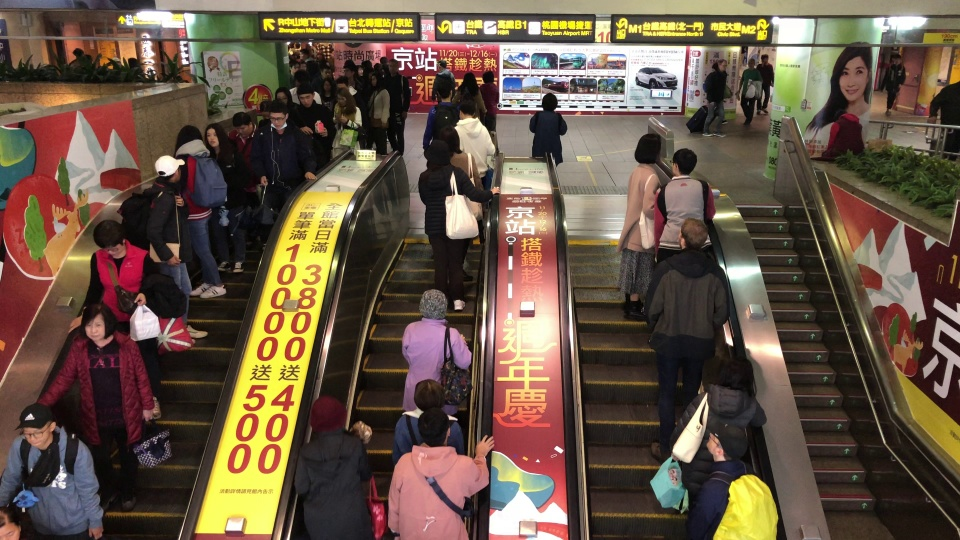person_head: (702, 422, 748, 463), (20, 404, 57, 447), (78, 302, 118, 341), (718, 354, 757, 394), (308, 395, 348, 432), (412, 377, 447, 413), (417, 407, 452, 443), (91, 219, 125, 254), (677, 216, 708, 251), (631, 132, 661, 165), (417, 288, 448, 318), (670, 147, 697, 176), (0, 506, 21, 540), (155, 154, 180, 182), (425, 139, 450, 166), (203, 122, 226, 147), (269, 101, 288, 130), (231, 111, 252, 137), (439, 125, 460, 150), (176, 124, 202, 143), (295, 83, 315, 107), (273, 85, 292, 107), (540, 91, 559, 111), (435, 80, 453, 101), (292, 71, 309, 88), (459, 101, 476, 118), (258, 99, 272, 118), (462, 71, 477, 86), (831, 108, 848, 121), (342, 62, 356, 77), (335, 76, 349, 91), (370, 71, 383, 87), (481, 69, 495, 83), (288, 59, 301, 73), (322, 77, 333, 93), (388, 58, 398, 74), (72, 46, 84, 59), (320, 64, 332, 77), (111, 56, 123, 68), (298, 48, 310, 60), (890, 53, 902, 63), (436, 59, 446, 70), (355, 63, 364, 75), (718, 58, 727, 70), (128, 57, 137, 68), (760, 52, 769, 63), (299, 60, 307, 72), (747, 58, 756, 68), (316, 51, 324, 61)
person_vbox: (34, 302, 155, 511), (641, 216, 727, 466), (66, 218, 163, 421), (117, 154, 208, 346), (667, 353, 767, 512), (381, 407, 494, 540), (416, 139, 500, 311), (640, 147, 716, 335), (0, 403, 104, 539), (683, 421, 780, 540), (294, 395, 374, 539), (172, 124, 227, 300), (400, 288, 473, 418), (613, 132, 662, 322), (249, 101, 317, 211), (439, 124, 486, 283), (390, 377, 465, 466), (203, 122, 247, 273), (229, 111, 261, 245), (452, 100, 496, 184), (294, 82, 336, 165), (809, 107, 865, 164), (528, 91, 568, 167), (383, 57, 412, 158), (927, 80, 960, 155), (422, 80, 458, 148), (700, 57, 727, 138), (367, 71, 391, 155), (735, 57, 763, 127), (478, 69, 501, 151), (880, 52, 906, 118), (453, 71, 488, 114), (287, 70, 322, 105), (755, 53, 774, 116), (431, 59, 455, 103), (333, 74, 362, 106), (309, 63, 335, 90), (320, 77, 335, 109)
